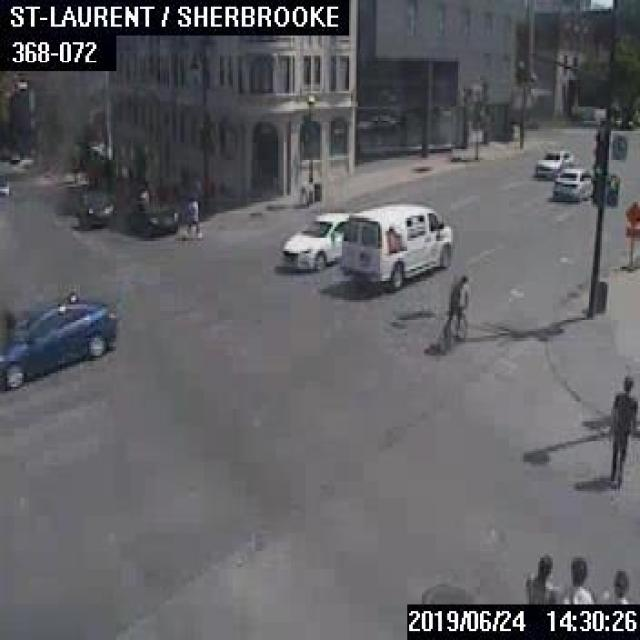construction: (620, 198, 638, 269)
cyclist: (439, 272, 468, 348)
pedestrian: (606, 371, 638, 485), (520, 554, 562, 602), (561, 554, 594, 601), (595, 567, 628, 603), (183, 192, 200, 238)
vehicle: (0, 293, 116, 388), (341, 202, 451, 288), (278, 210, 350, 269), (125, 190, 178, 234), (73, 189, 114, 228), (552, 167, 589, 204), (533, 149, 573, 178), (0, 173, 7, 195)
